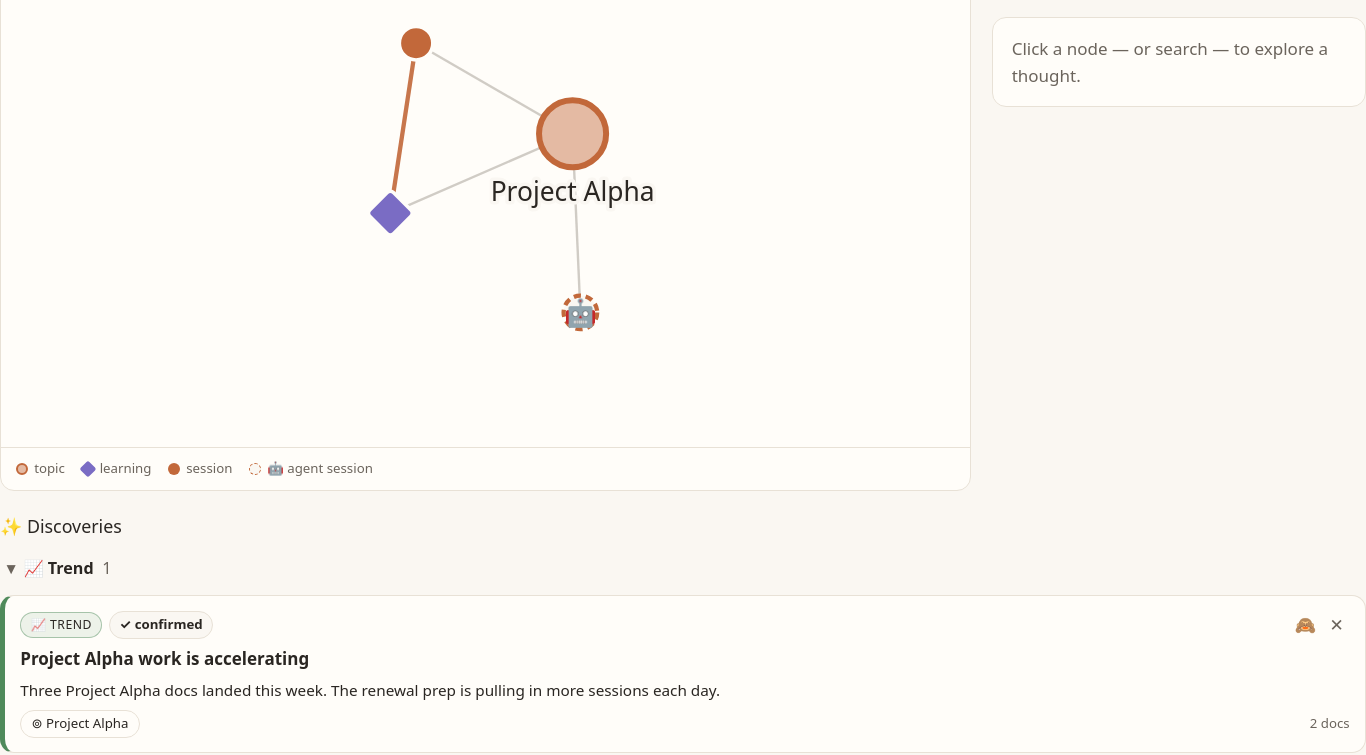
BrainView discoveries › surfaces a notice when re-verify is rejected (409 already running)
(page scrolled)
Click the button "Project Alpha work is accelerating".
click(165, 658)  # box [20, 648, 1350, 671]
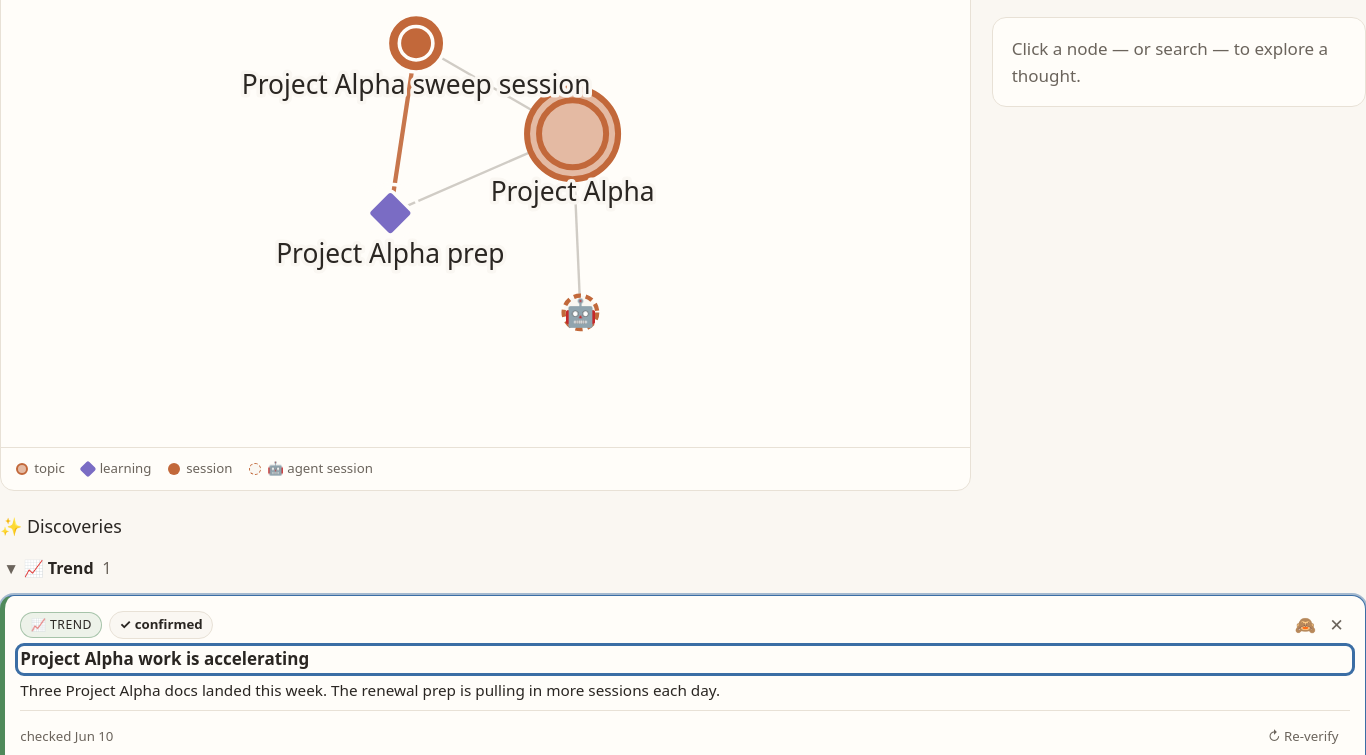
Click the button "↻ Re-verify".
click(1303, 736)  # box [1257, 721, 1350, 752]
(page scrolled)
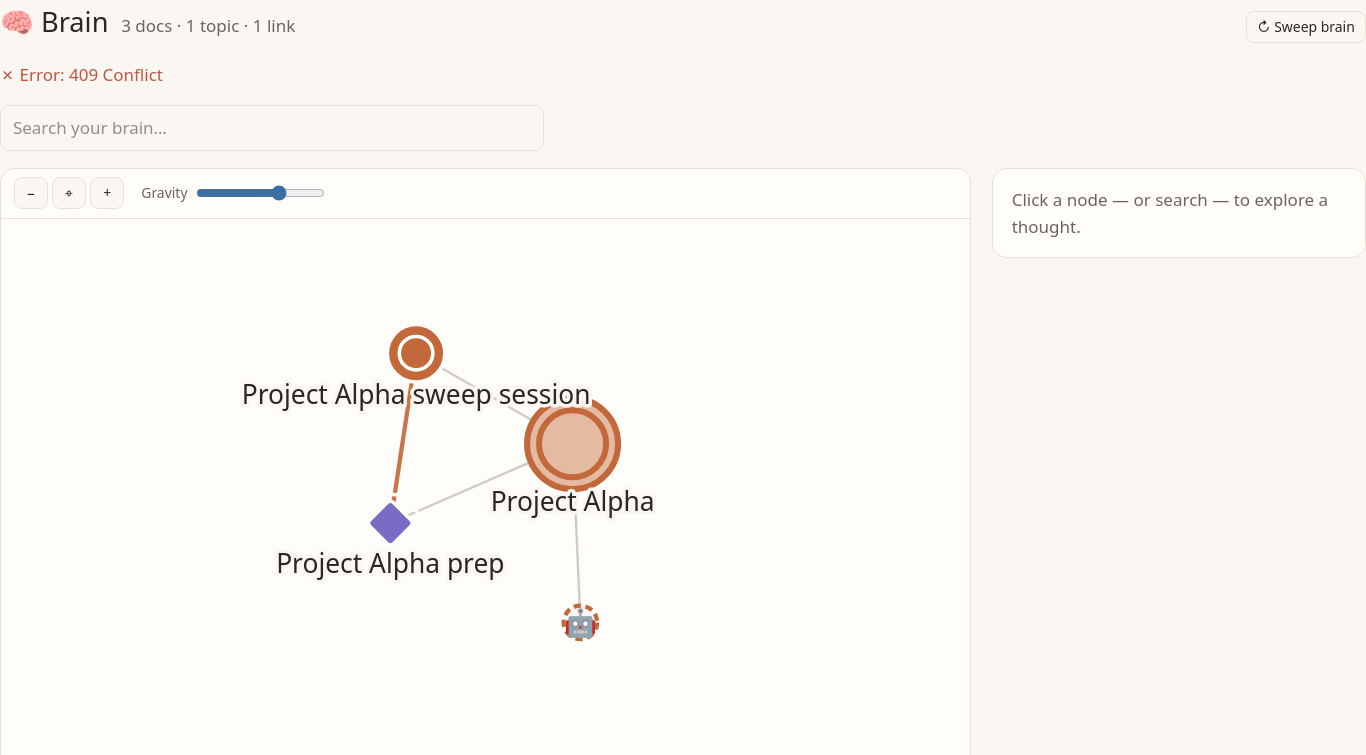
Expected: the text "✗ Error: 409 Conflict" is shown, [0, 62, 163, 86]
